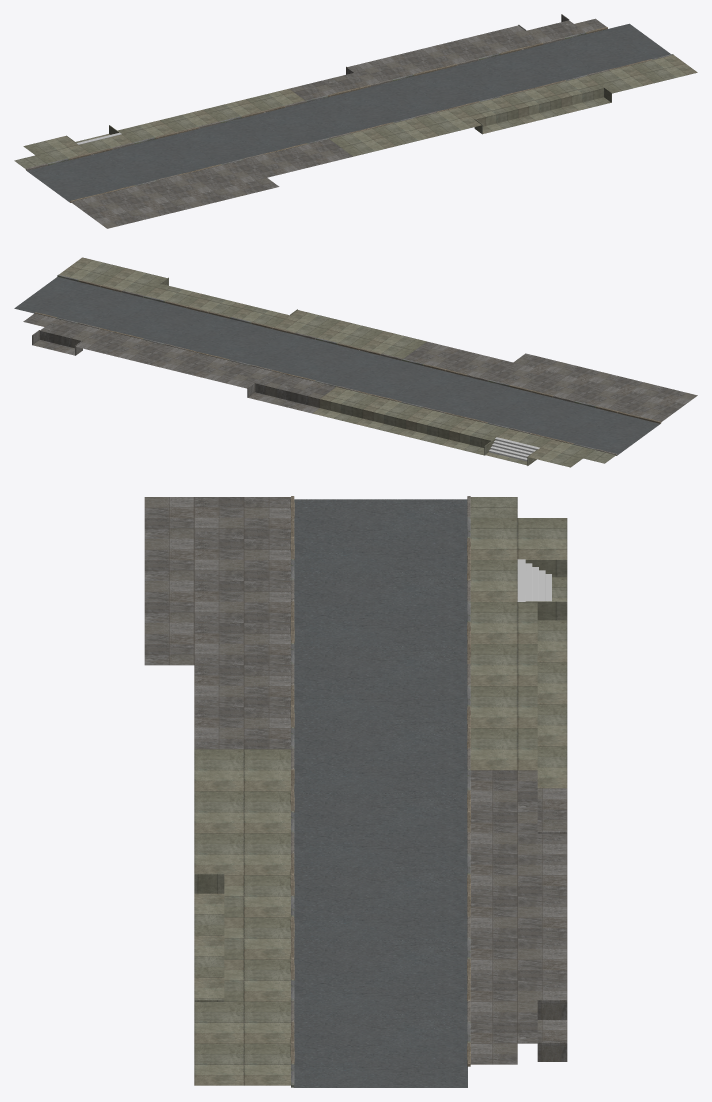
The picture shows the model from 3 angles, top to bottom: view 1: azimuth 30°, elevation 25°; view 2: azimuth 150°, elevation 25°; view 3: azimuth 270°, elevation 25°; orthographic projection. The views are drawn at different scales.
Visible parts, largest first — view 1: Optimized_Scene_01_LOD0; view 2: Optimized_Scene_01_LOD0; view 3: Optimized_Scene_01_LOD0.
Boxes of the visible parts, <box> form: Optimized_Scene_01_LOD0: <box>14,14,697,228</box>; Optimized_Scene_01_LOD0: <box>14,257,697,467</box>; Optimized_Scene_01_LOD0: <box>144,496,567,1087</box>.
Size of what is drawn, in the model's own units: 5600 by 88.27 by 1700.
